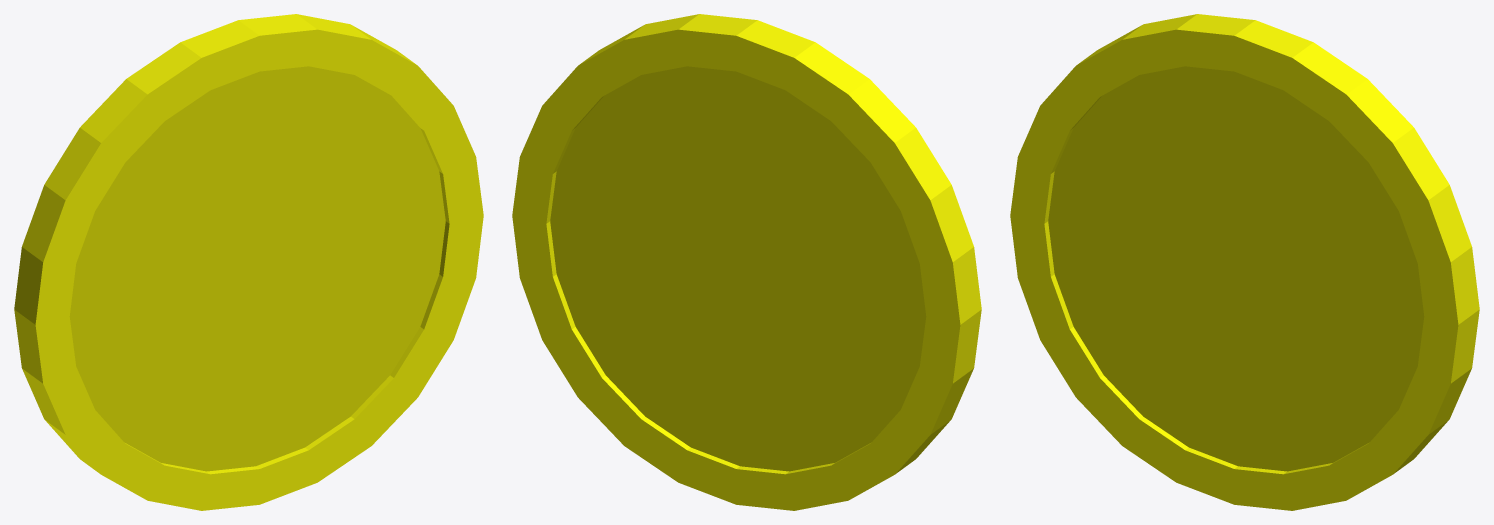
Rendered from Coin.fbx.
3 views of the same model, side by side, from view 1: azimuth 30°, elevation 25°; view 2: azimuth 150°, elevation 25°; view 3: azimuth 330°, elevation 25° (orthographic).
Visible parts, largest first — view 1: Coin; view 2: Coin; view 3: Coin.
Part boxes in pixels (x1=…): Coin: x1=14, y1=14, x2=483, y2=510; Coin: x1=512, y1=14, x2=981, y2=510; Coin: x1=1010, y1=14, x2=1479, y2=510.
Bounding box in the file's own units: 80.47 × 80.47 × 6.64.
